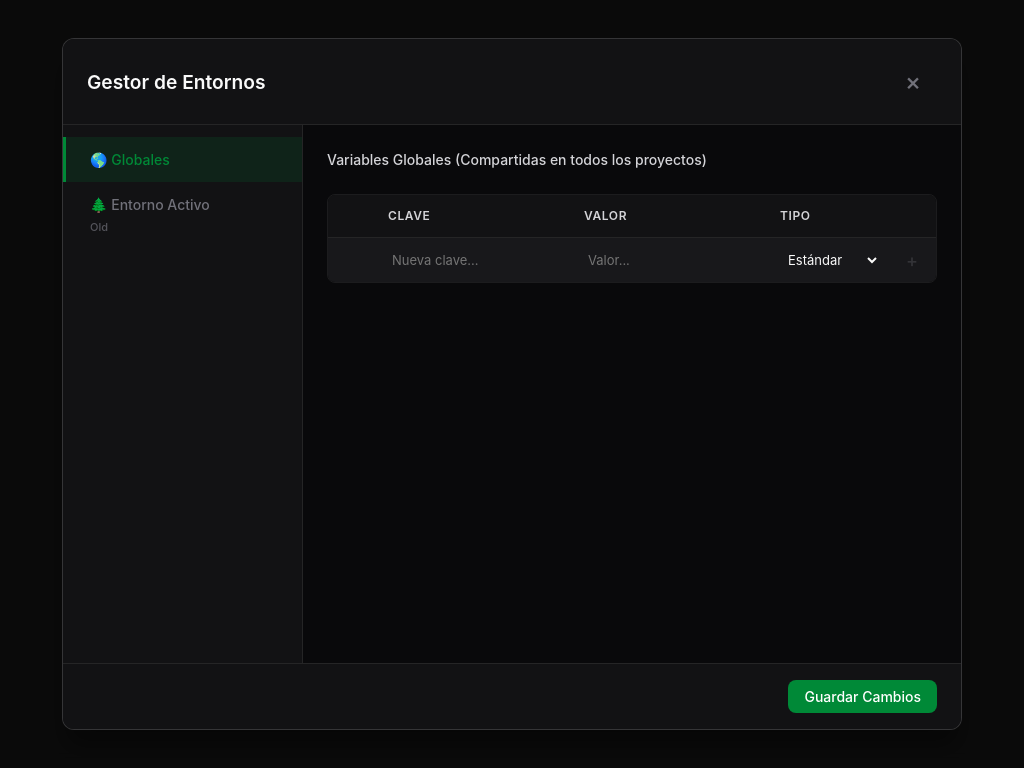
Test: EnvironmentManagerModal.vue › updates active environment name
// Switch to Active Env first because initial scope is globals
Click the element with class "envModal__scopeItem" showing "🌲 Entorno Activo Old" at (150,215), box [90, 196, 210, 234]
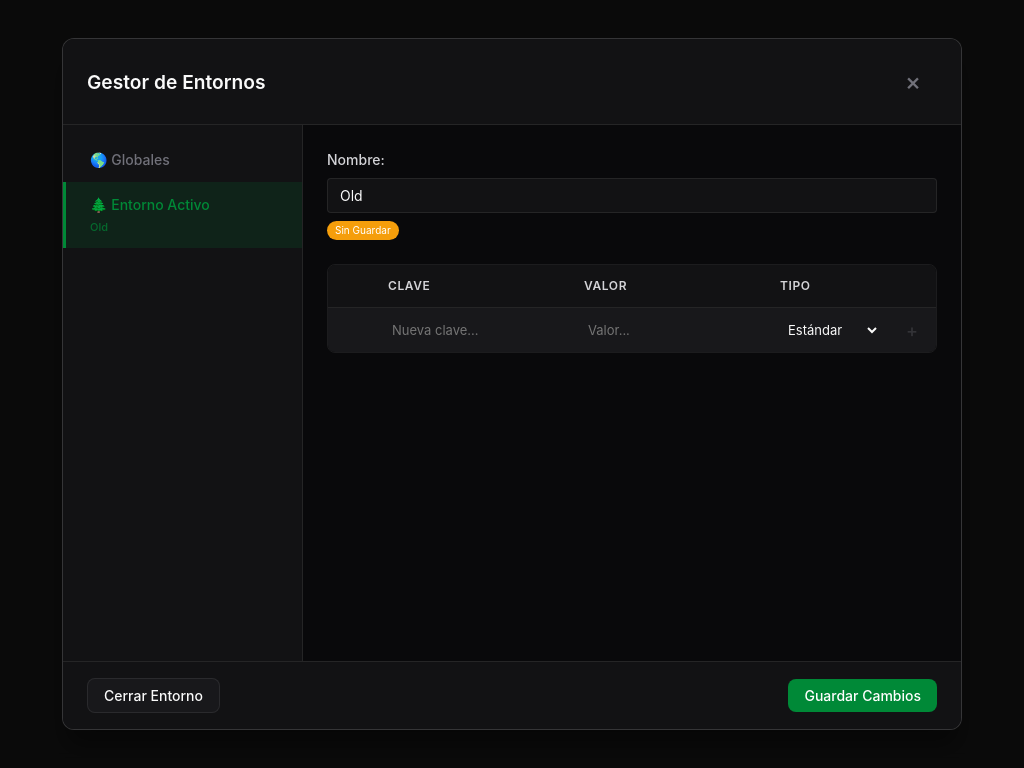
Replace the text in the field labelled "Nombre:" with "New" at (632,196), box [327, 178, 937, 213]
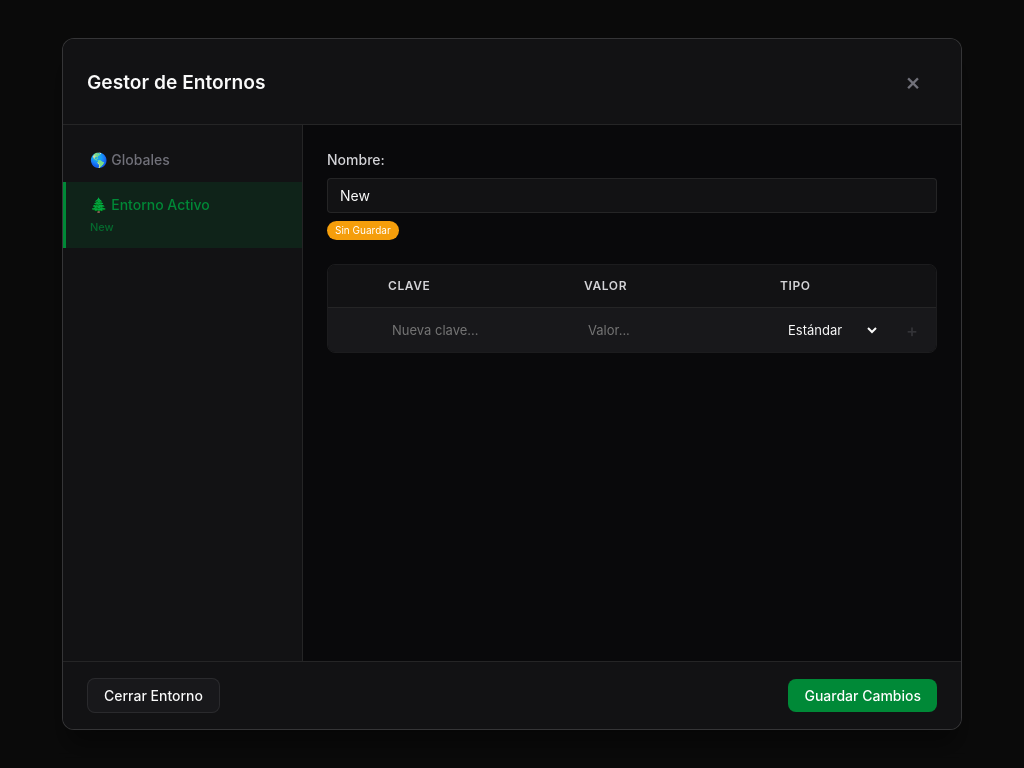
Now the text "New" is shown, box [90, 220, 114, 234]
